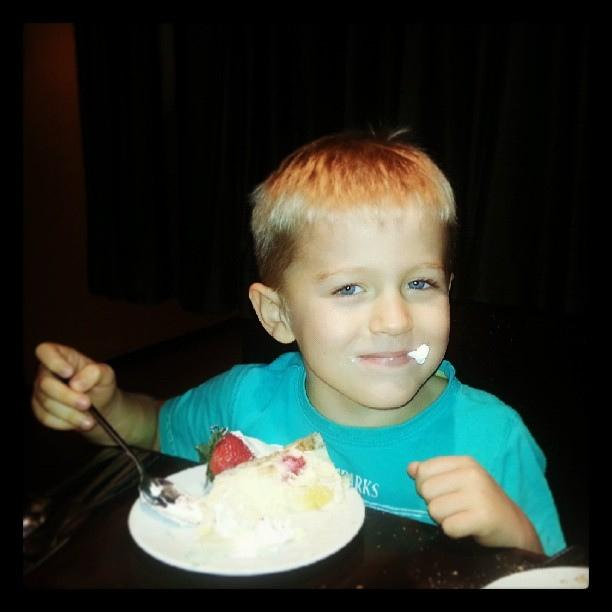strawberry: (197, 424, 255, 488), (283, 456, 306, 476)
